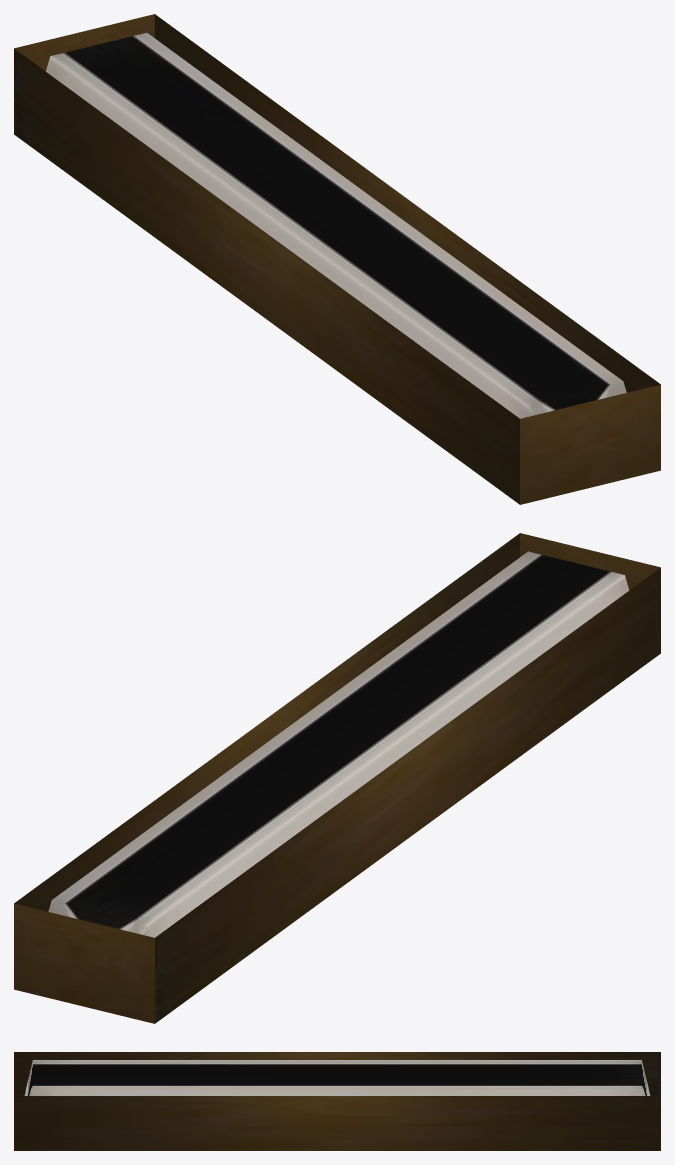
File: ceiling_lamp.glb
The picture shows the model from 3 angles, top to bottom: view 1: azimuth 30°, elevation 25°; view 2: azimuth 150°, elevation 25°; view 3: azimuth 270°, elevation 25°; orthographic projection. The views are drawn at different scales.
Parts seen in each view (by area): view 1: Object_4; view 2: Object_4; view 3: Object_4.
Boxes of the visible parts, bbox=[...] form: Object_4: bbox=[14, 14, 660, 504]; Object_4: bbox=[14, 533, 660, 1023]; Object_4: bbox=[14, 1052, 660, 1150].
Bounding box in the file's own units: 0.2092 × 0.1222 × 1.3.
Materials: 1 (1 with a texture image).
